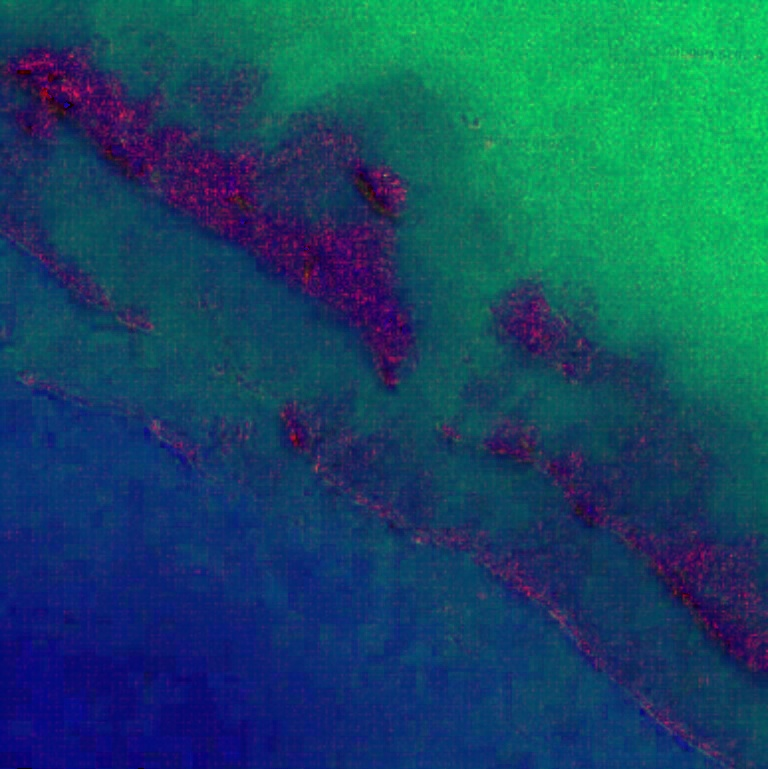rip_current: (331, 56, 545, 555)
